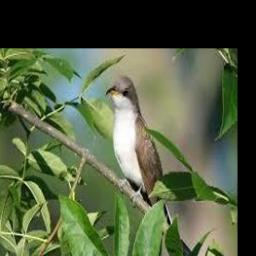Cuckoo: (105, 76, 176, 235)
